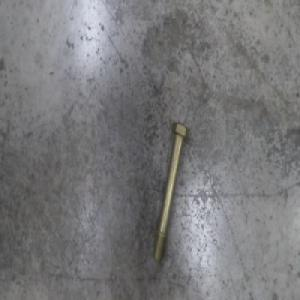Bolt: (151, 119, 188, 263)
